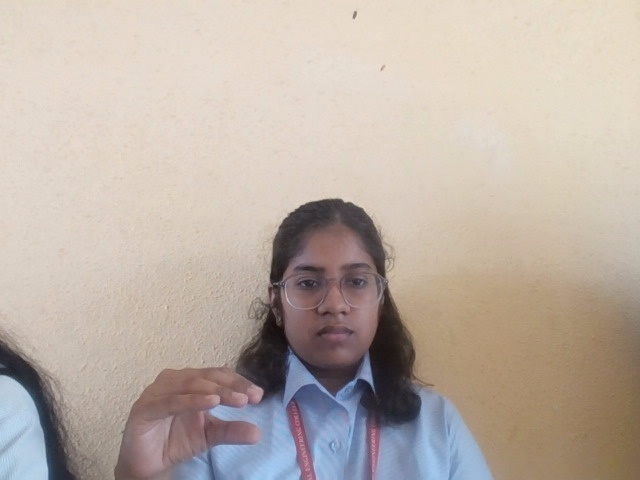No: (109, 362, 267, 480)
